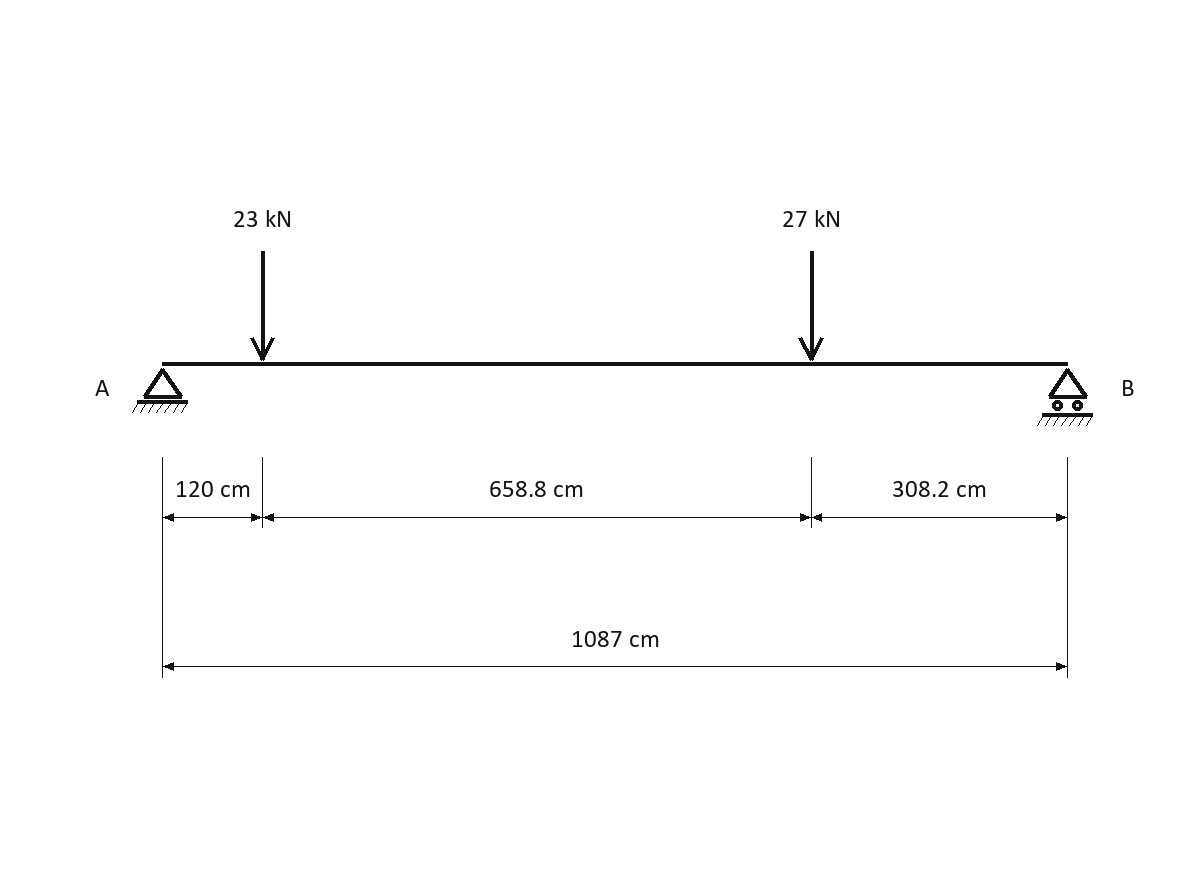pin_support: (132, 368, 188, 413)
point_load: (798, 251, 824, 361), (250, 251, 275, 361)
roller_support: (1037, 368, 1093, 426)
